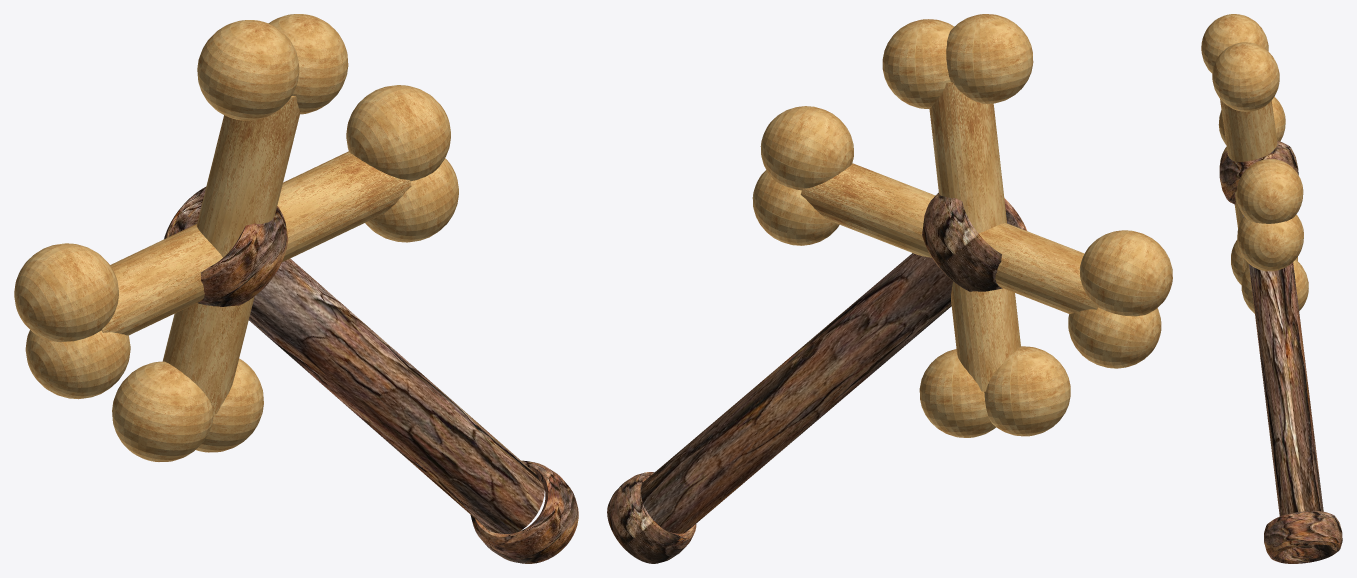
Rendered from ArmaHueso.obj.
3 views of the same model, side by side, from view 1: azimuth 30°, elevation 25°; view 2: azimuth 150°, elevation 25°; view 3: azimuth 270°, elevation 25° (orthographic). The views are drawn at different scales.
Visible parts, largest first — view 1: Torus.001; view 2: Torus.001; view 3: Torus.001.
Boxes of the visible parts, x1=… form: Torus.001: x1=14, y1=14, x2=578, y2=563; Torus.001: x1=607, y1=14, x2=1172, y2=563; Torus.001: x1=1201, y1=14, x2=1342, y2=563.
Size of the model in its own units: 2.59 by 2.74 by 0.7958.
4 materials, 4 textured.
